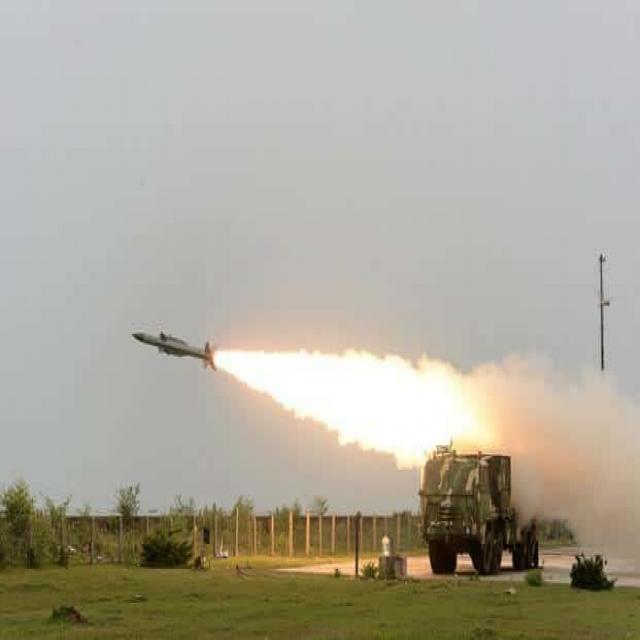rocket: (131, 317, 417, 413)
